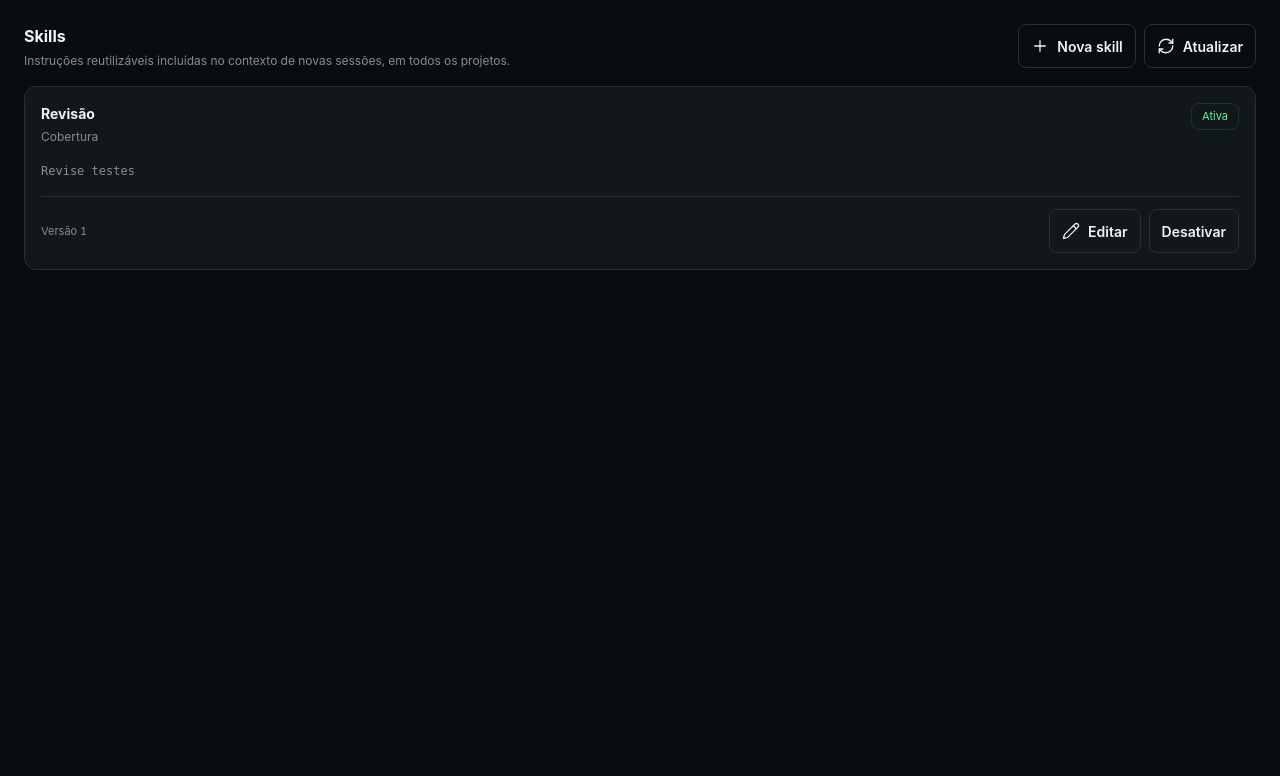
leads with saved skills and opens import and creation together on demand
Expected: the text "Revise testes" is shown, [41, 164, 135, 178]
Expected: the field labelled "Nome da skill" is not shown
Click the button "Nova skill" at [1077, 46], box [1018, 24, 1136, 68]
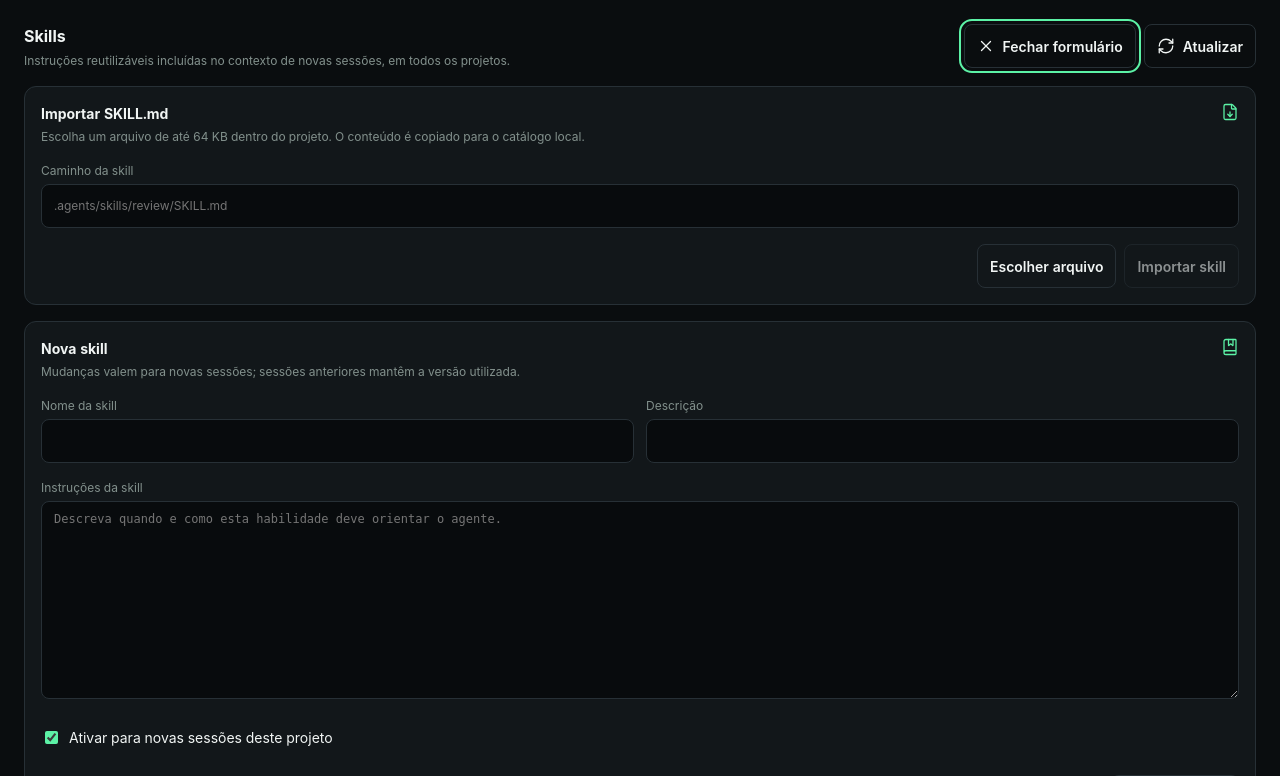
Result: the field labelled "Nome da skill" is shown at [41, 419, 634, 463]
Result: the field labelled "Caminho da skill" is shown at [41, 184, 1239, 228]
Click the button "Fechar formulário" at [1050, 46], box [964, 24, 1136, 68]
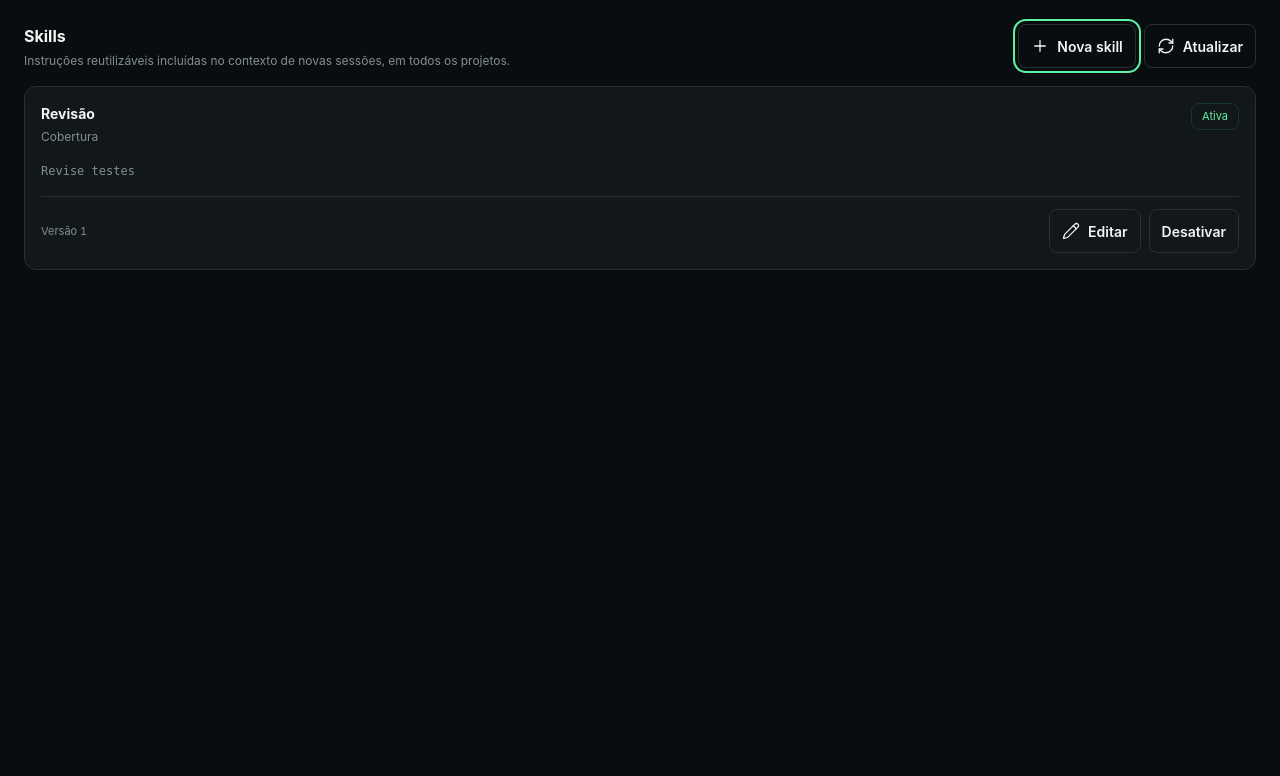
Result: the label labelled "Nome da skill" is gone
